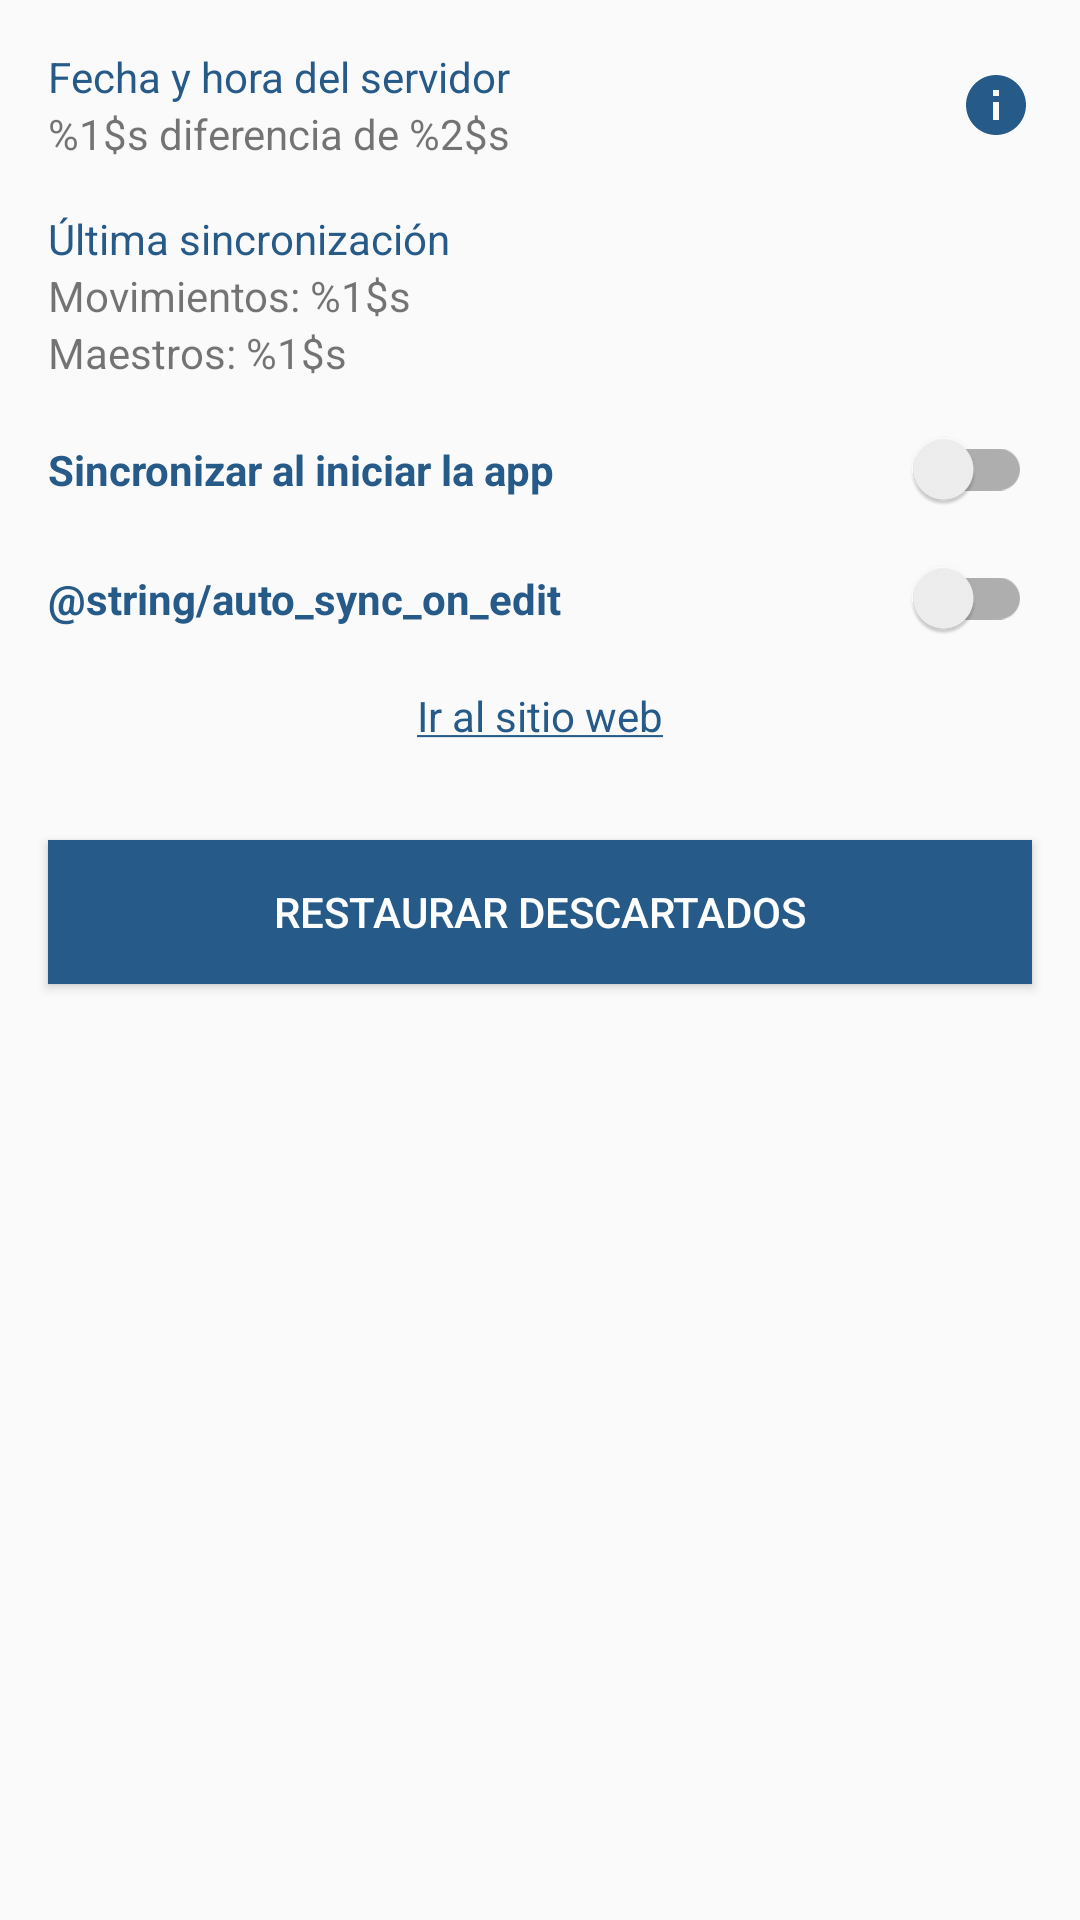

Point at icon controls on the screen. Image size 1080w x 1920h, points as point (x, y).
info: point (996, 105)
